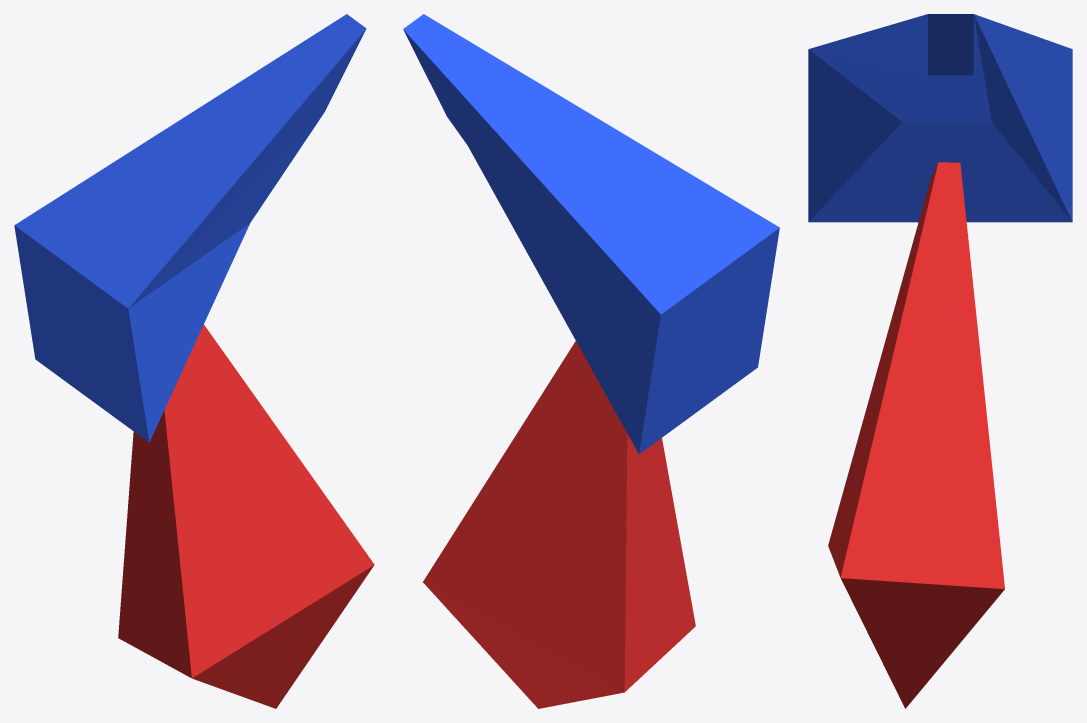
Rendered from float_L_arm.obj.
The picture shows the model from 3 angles, left to right: view 1: azimuth 30°, elevation 25°; view 2: azimuth 150°, elevation 25°; view 3: azimuth 270°, elevation 25°; orthographic projection. The views are drawn at different scales.
Visible parts, largest first — view 1: Left_arm; view 2: Left_arm; view 3: Left_arm.
Part boxes in pixels (x1,y1,x2,y2): Left_arm: [14, 14, 374, 708]; Left_arm: [403, 14, 779, 708]; Left_arm: [808, 14, 1072, 708].
Bounding box in the file's own units: 0.7513 × 1.61 × 0.512.
